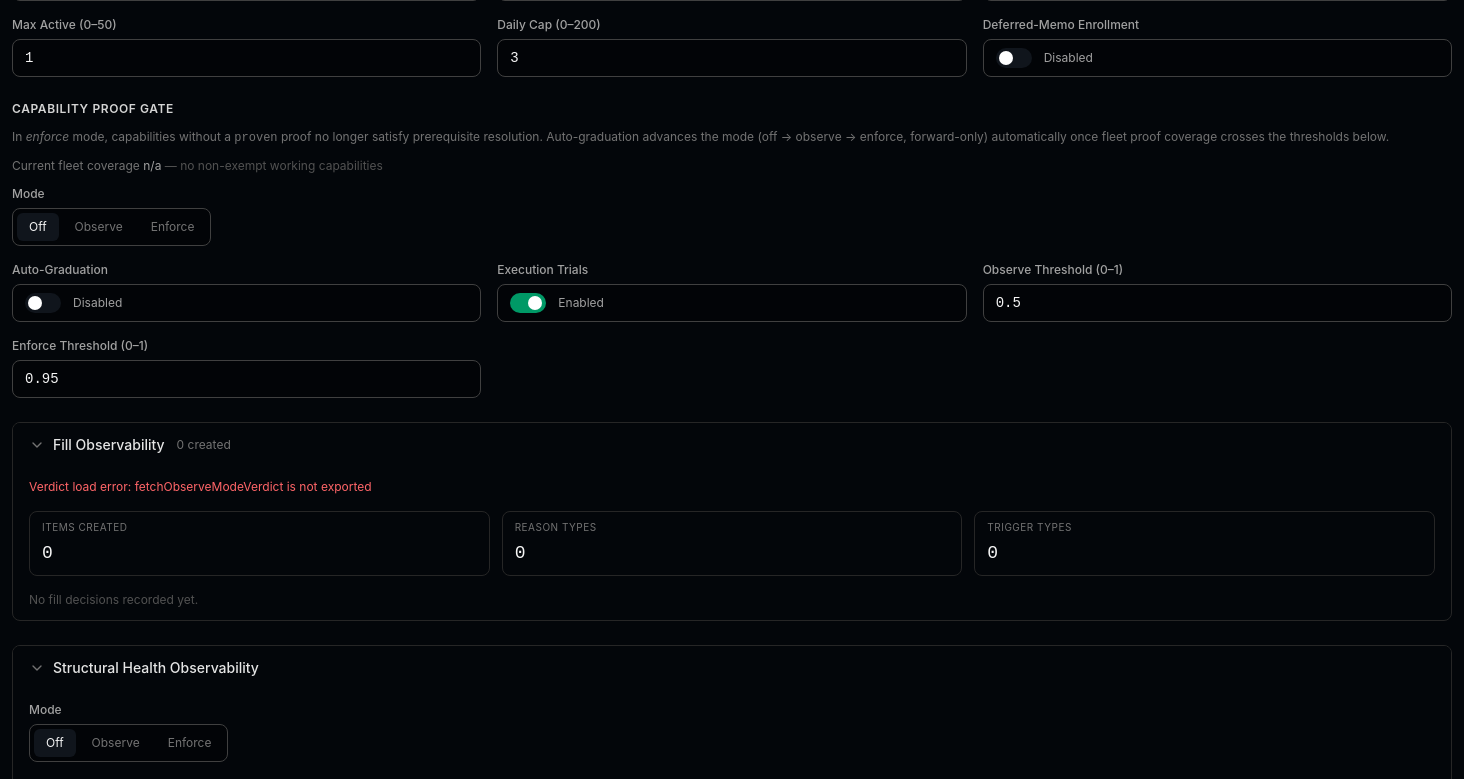
SettingsOrchestratorSection › reverts an out-of-range proof-gate threshold without patching
This screenshot has width=1464, height=779.
(page scrolled)
Replace the text in the number field with test id "proof-gate-enforce-threshold" with "2.5" at point(247, 379), box x1=12 y1=360 x2=481 y2=398
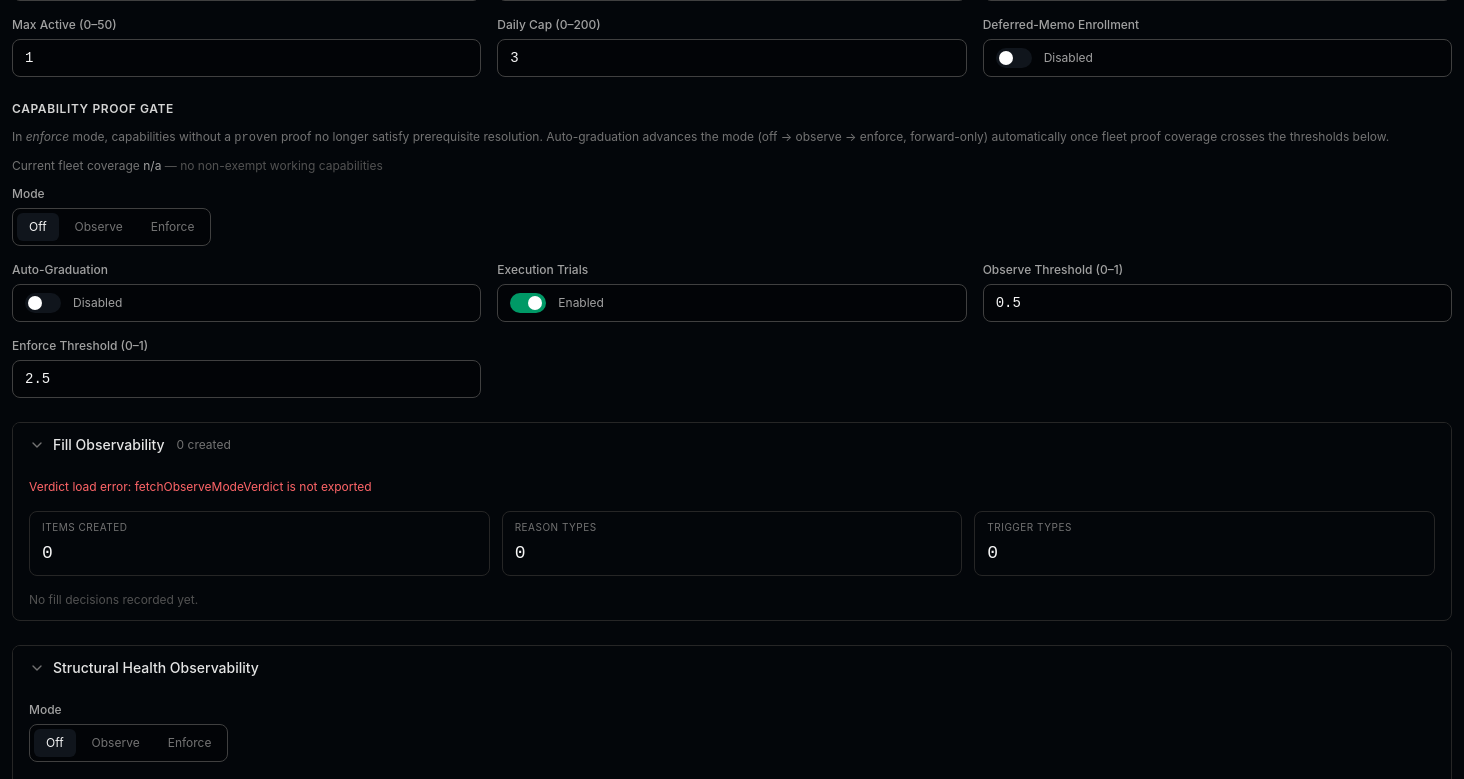
Leave the number field with test id "proof-gate-enforce-threshold", box x1=12 y1=360 x2=481 y2=398
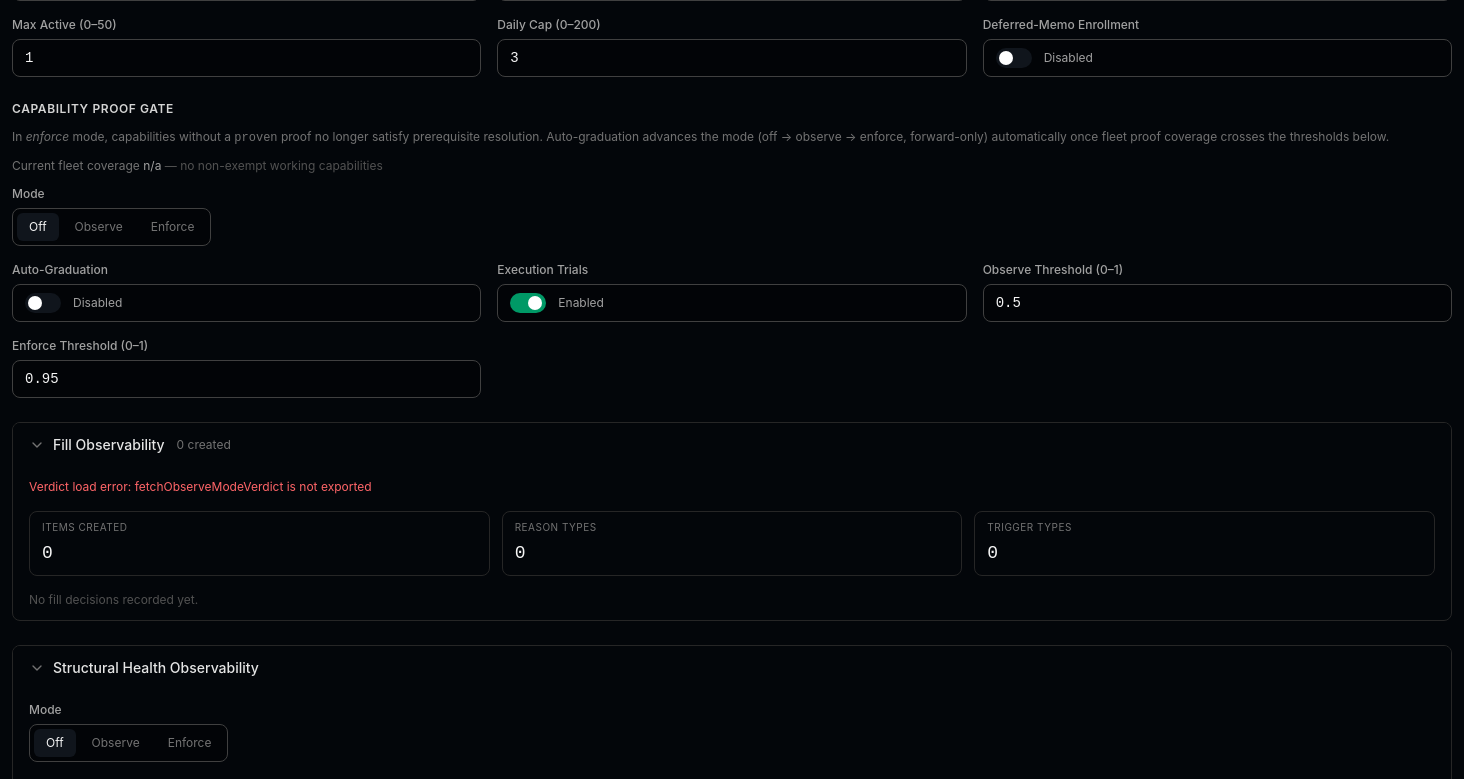
Expected: the number field with test id "proof-gate-enforce-threshold" holds "0.95", x1=12 y1=360 x2=481 y2=398
